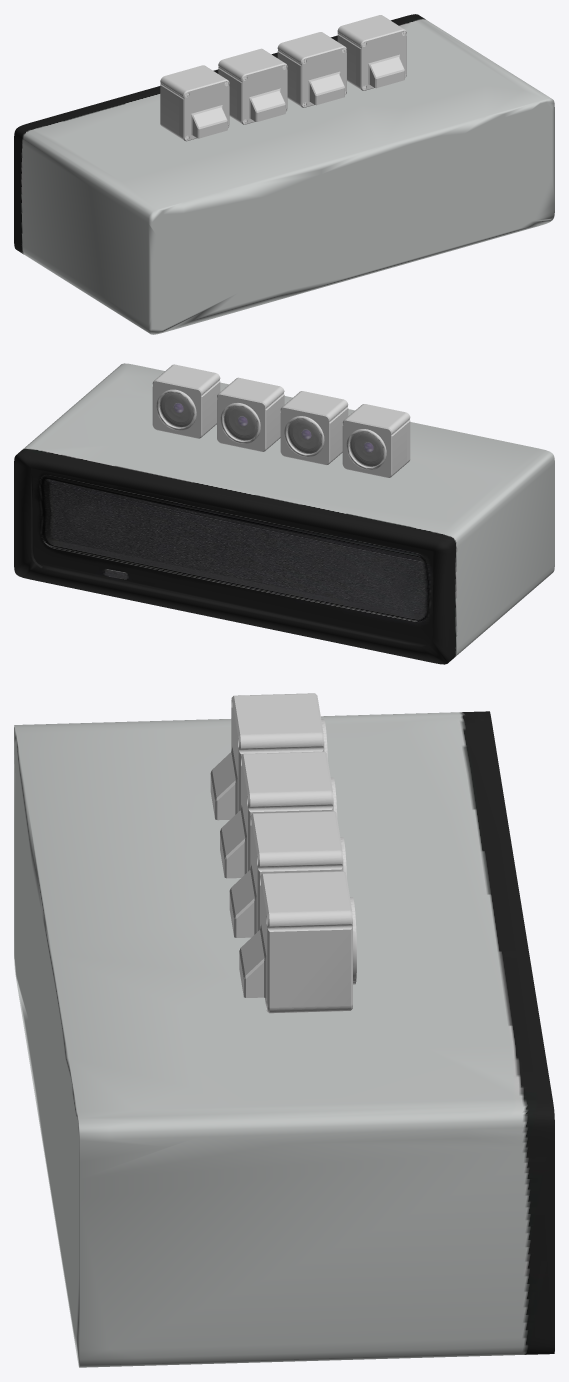
File: 4CAM.glb
The picture shows the model from 3 angles, top to bottom: view 1: azimuth 30°, elevation 25°; view 2: azimuth 150°, elevation 25°; view 3: azimuth 270°, elevation 25°; orthographic projection. The views are drawn at different scales.
Visible parts, largest first — view 1: pCube4, polySurface70 polySurface107; view 2: pCube4, polySurface70 polySurface107, polySurface76 polySurface69, polySurface58 polySurface93, polySurface69 polySurface75; view 3: pCube4, polySurface70 polySurface107.
Boxes of the visible parts, x1,y1,x2,y2 form: pCube4: (14, 14, 554, 334); polySurface70 polySurface107: (160, 15, 406, 141); pCube4: (14, 363, 554, 664); polySurface70 polySurface107: (152, 364, 410, 477); polySurface76 polySurface69: (159, 392, 383, 466); polySurface58 polySurface93: (160, 393, 382, 465); polySurface69 polySurface75: (156, 389, 386, 469); pCube4: (14, 711, 554, 1367); polySurface70 polySurface107: (210, 693, 352, 1013).
Size of the model in its own units: 561 by 224 by 304.
7 materials, 3 textured.
